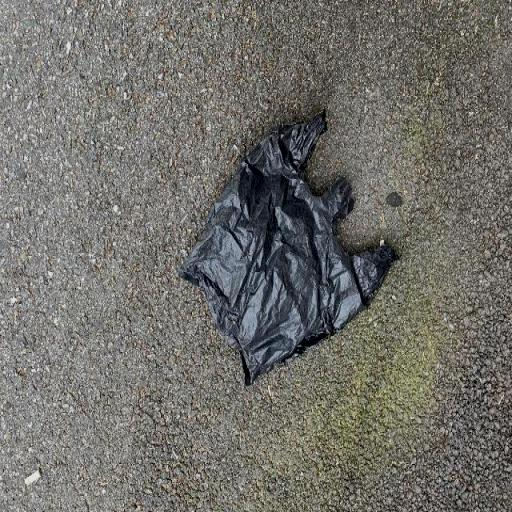polythene: (182, 112, 397, 384)
